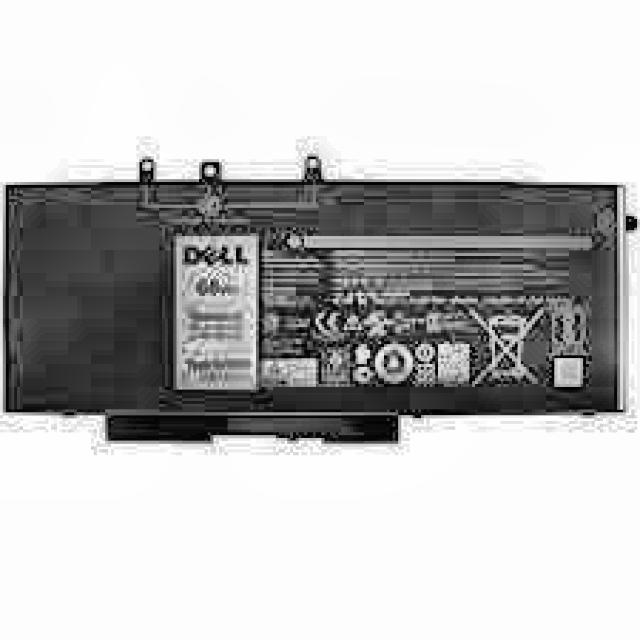Battery: (0, 154, 640, 444)
